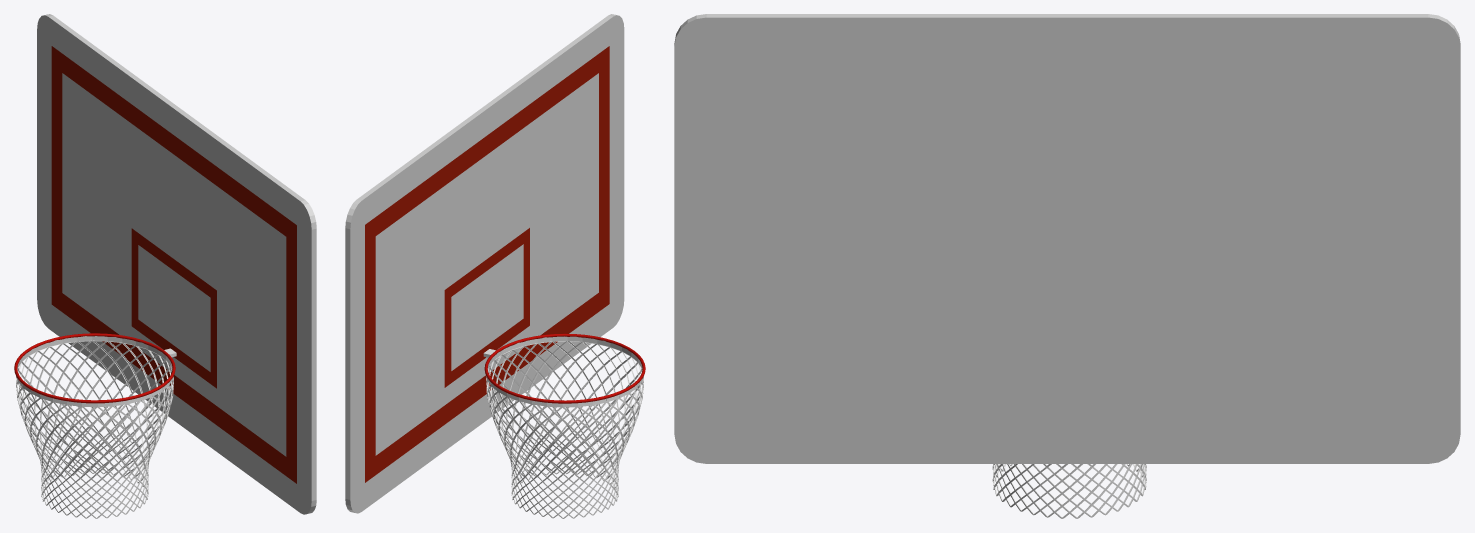
The model's file is POTA.fbx.
The picture shows the model from 3 angles, left to right: view 1: azimuth 30°, elevation 25°; view 2: azimuth 150°, elevation 25°; view 3: azimuth 270°, elevation 25°; orthographic projection. The views are drawn at different scales.
Visible parts, largest first — view 1: Table, Pot, BezierCircle; view 2: Table, Pot, BezierCircle; view 3: Table, Pot.
Part boxes in pixels (x1=…): Table: x1=37, y1=14, x2=316, y2=514; Pot: x1=16, y1=336, x2=173, y2=518; BezierCircle: x1=14, y1=333, x2=175, y2=403; Table: x1=345, y1=14, x2=624, y2=513; Pot: x1=486, y1=336, x2=643, y2=518; BezierCircle: x1=484, y1=333, x2=645, y2=403; Table: x1=674, y1=14, x2=1460, y2=463; Pot: x1=992, y1=464, x2=1146, y2=518.
Bounding box in the file's own units: 224 × 514 × 694.
